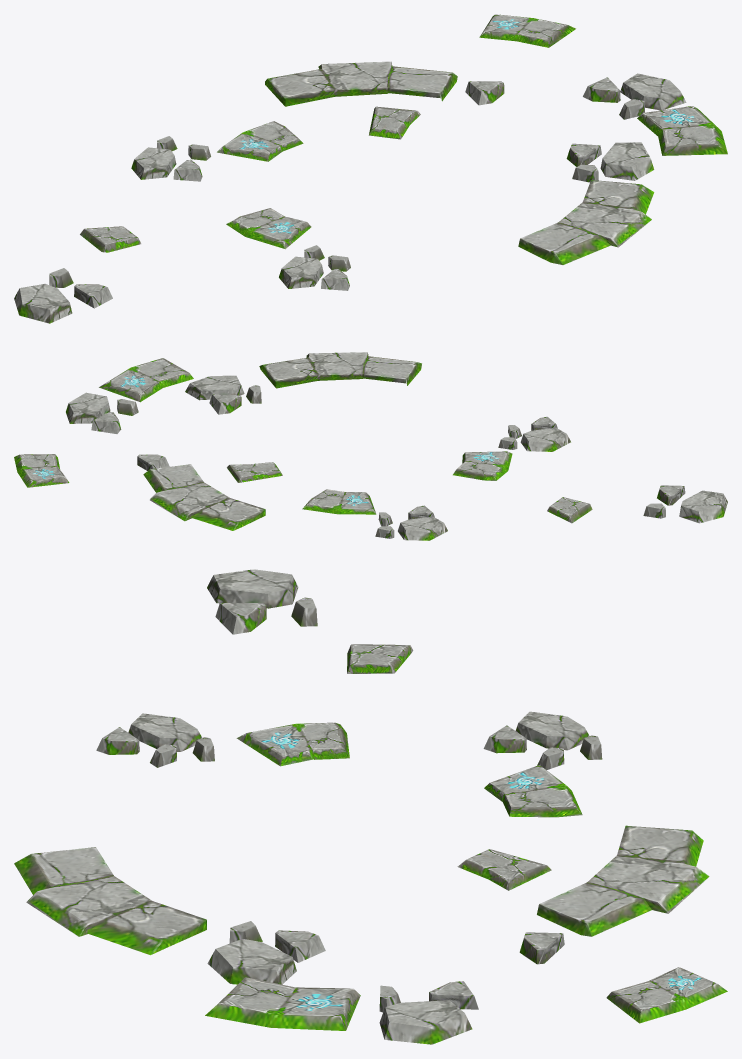
The model's file is F02_mainfloor01.FBX.
The picture shows the model from 3 angles, top to bottom: view 1: azimuth 30°, elevation 25°; view 2: azimuth 150°, elevation 25°; view 3: azimuth 270°, elevation 25°; orthographic projection. The views are drawn at different scales.
Parts seen in each view (by area): view 1: F02_mainfloor01; view 2: F02_mainfloor01; view 3: F02_mainfloor01.
Boxes of the visible parts, x1,y1,x2,y2 form: F02_mainfloor01: [14, 14, 727, 323]; F02_mainfloor01: [14, 352, 727, 540]; F02_mainfloor01: [14, 569, 727, 1044].
Bounding box in the file's own units: 2291 × 48.16 × 1496.
